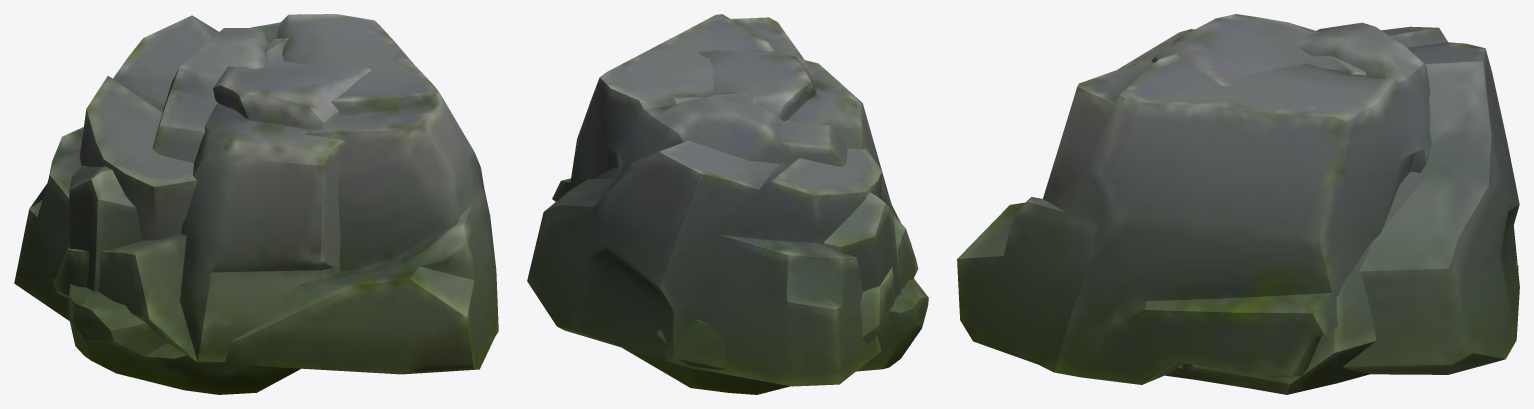
The model's file is megakit-rocks.phone.glb.
The picture shows the model from 3 angles, left to right: view 1: azimuth 30°, elevation 25°; view 2: azimuth 150°, elevation 25°; view 3: azimuth 270°, elevation 25°; orthographic projection. The views are drawn at different scales.
Parts seen in each view (by area): view 1: Rock_Medium_3, Rock_Medium_1, Rock_Medium_2; view 2: Rock_Medium_2, Rock_Medium_3, Rock_Medium_1; view 3: Rock_Medium_3, Rock_Medium_2, Rock_Medium_1.
Part boxes in pixels (box(x1,y1,x2,y2)): Rock_Medium_3: box(69, 14, 498, 394); Rock_Medium_1: box(52, 38, 370, 362); Rock_Medium_2: box(14, 15, 218, 320); Rock_Medium_2: box(527, 140, 882, 386); Rock_Medium_3: box(552, 14, 928, 371); Rock_Medium_1: box(573, 50, 918, 394); Rock_Medium_3: box(957, 22, 1431, 384); Rock_Medium_2: box(1343, 26, 1519, 374); Rock_Medium_1: box(1118, 14, 1518, 394).
Bounding box in the file's own units: 3.42 × 2.32 × 3.74.
2 materials, 2 textured.
